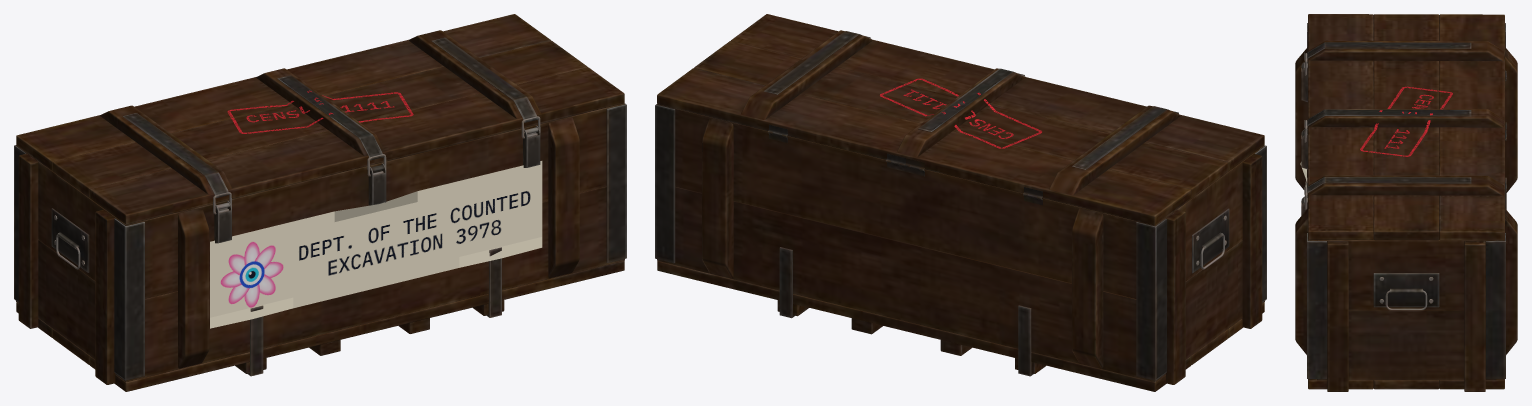
File: nyb_apes_crate.glb
The picture shows the model from 3 angles, left to right: view 1: azimuth 30°, elevation 25°; view 2: azimuth 150°, elevation 25°; view 3: azimuth 270°, elevation 25°; orthographic projection. The views are drawn at different scales.
Parts seen in each view (by area): view 1: wooden_military_crate, stk_lbl_c88de2d835.png, stk_census.png; view 2: wooden_military_crate, stk_census.png; view 3: wooden_military_crate, stk_census.png.
Part boxes in pixels (<box>): wooden_military_crate: <box>14,14,626,391</box>; stk_lbl_c88de2d835.png: <box>210,161,542,328</box>; stk_census.png: <box>227,90,413,133</box>; wooden_military_crate: <box>655,14,1266,391</box>; stk_census.png: <box>880,78,1041,148</box>; wooden_military_crate: <box>1295,14,1517,391</box>; stk_census.png: <box>1360,86,1452,156</box>.
Bounding box in the file's own units: 1.24 × 0.467 × 0.5198.
3 materials, 3 textured.
